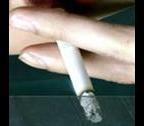Cigarette: (53, 6, 102, 121)
